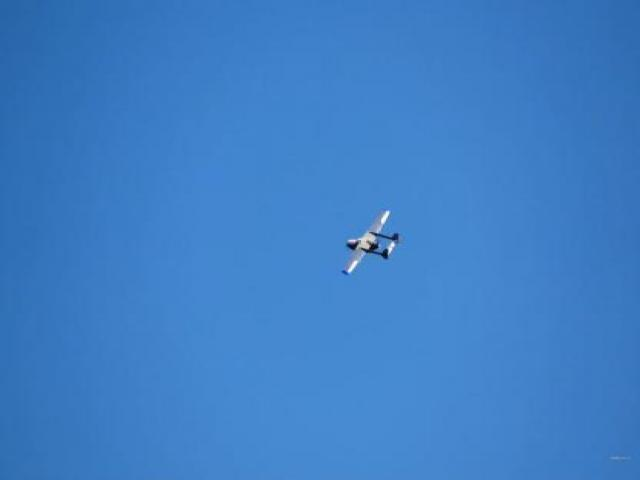uav: (338, 204, 402, 280)
